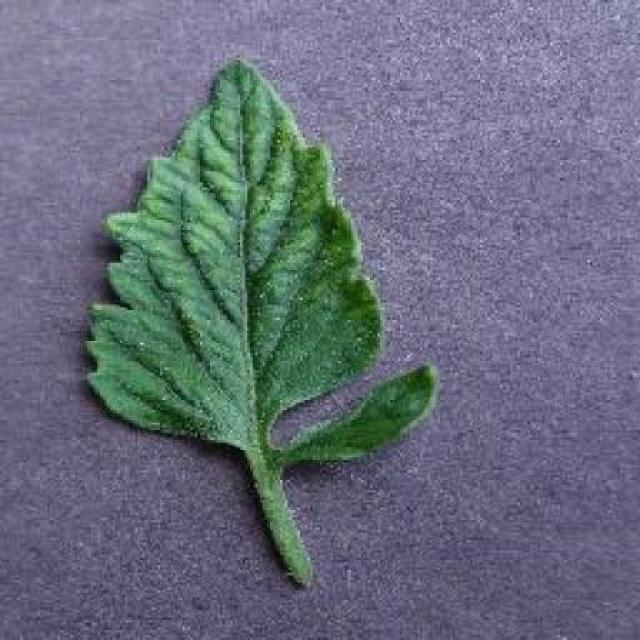Mosaic Virus: (87, 51, 439, 466)
